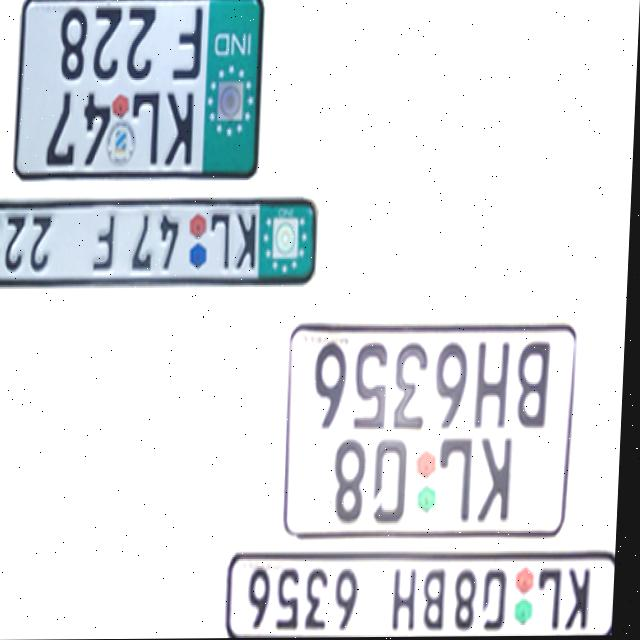plate: (285, 322, 585, 543), (15, 0, 269, 186), (227, 546, 621, 639), (0, 201, 325, 293)
